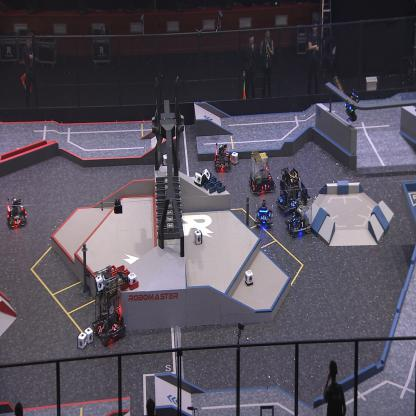car: (92, 263, 127, 344), (285, 183, 312, 237), (276, 166, 304, 214), (248, 150, 276, 194), (7, 196, 28, 229), (254, 197, 274, 229), (214, 142, 232, 172)
